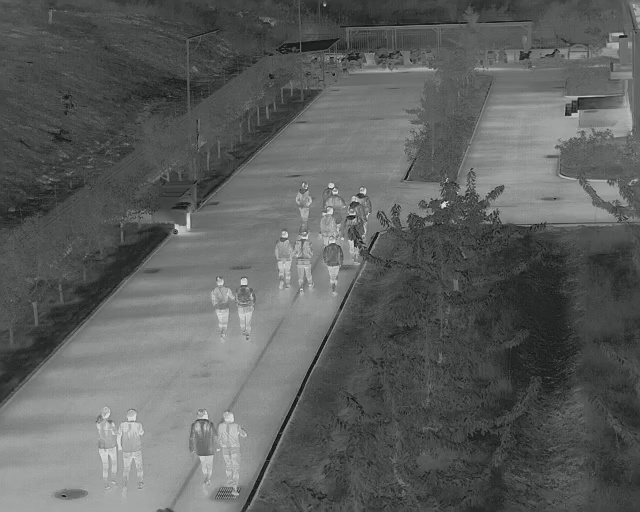person: (117, 406, 149, 496), (219, 409, 250, 501), (188, 406, 220, 486), (93, 403, 121, 489), (209, 275, 234, 341), (235, 274, 257, 342), (295, 229, 318, 294), (273, 228, 295, 292), (322, 234, 343, 295), (344, 209, 362, 264), (295, 179, 314, 229), (352, 186, 373, 226), (319, 205, 340, 237), (324, 188, 347, 206)
